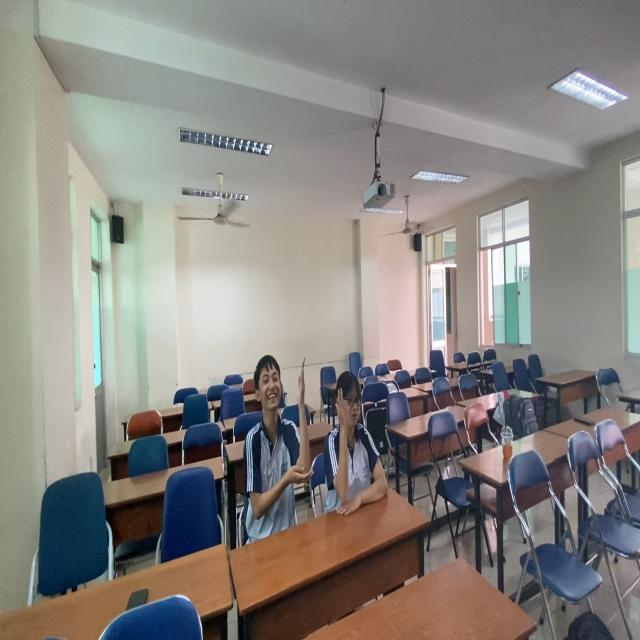raise_hand: (240, 342, 318, 549), (314, 358, 400, 535)
